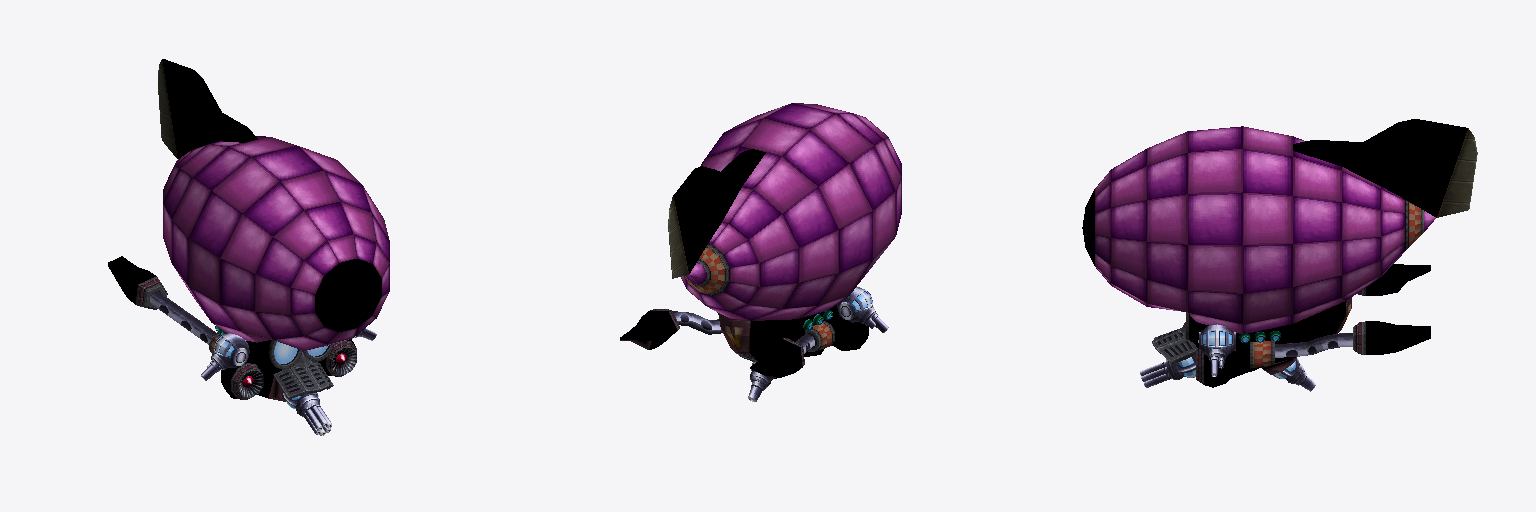
The picture shows the model from 3 angles: view 1: azimuth 30°, elevation 25°; view 2: azimuth 150°, elevation 25°; view 3: azimuth 270°, elevation 25°; orthographic projection.
Visible parts, largest first — view 1: Airship; view 2: Airship; view 3: Airship.
Part boxes in pixels (x1,y1,x2,y2): Airship: (108,59,389,435); Airship: (620,103,901,401); Airship: (1082,119,1477,391).
Bounding box in the file's own units: 773 × 1144 × 1518.
Materials: 17 (15 with a texture image).